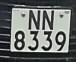3: (27, 30, 41, 53), (41, 30, 54, 53)
8: (12, 30, 27, 52)
9: (53, 30, 68, 53)
N: (26, 9, 43, 32), (41, 9, 55, 32)
